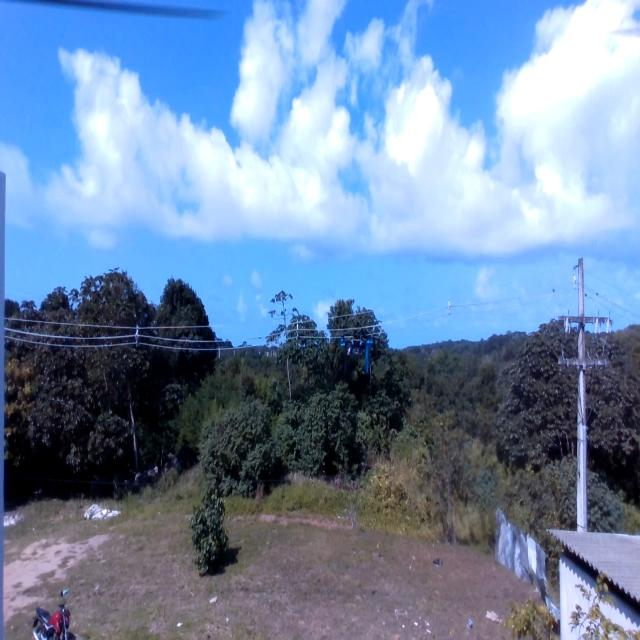-uav-: (329, 316, 384, 382)
